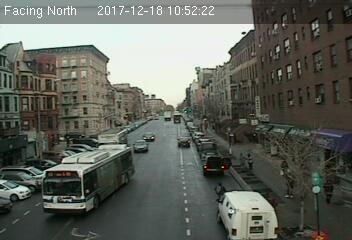bus: (41, 143, 136, 216)
car: (200, 151, 226, 175), (132, 139, 148, 152), (177, 136, 192, 148), (143, 131, 155, 141)
pedestrian: (285, 172, 295, 199)
truck: (217, 191, 282, 240)
